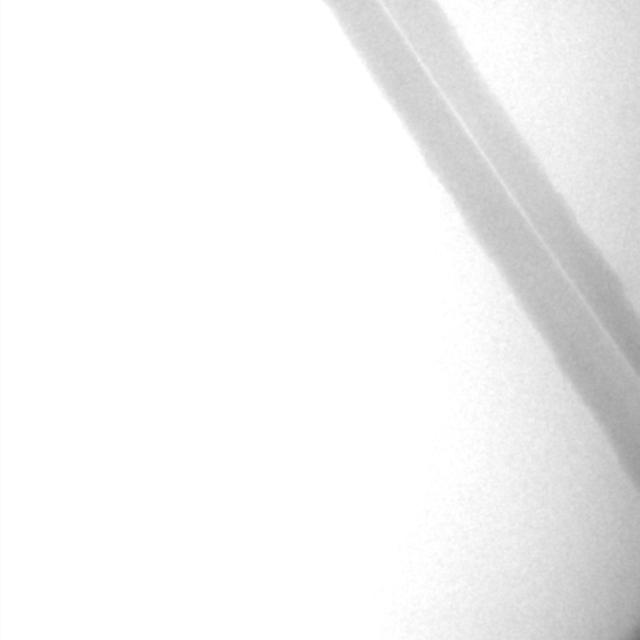broken arc: (381, 2, 633, 373)
